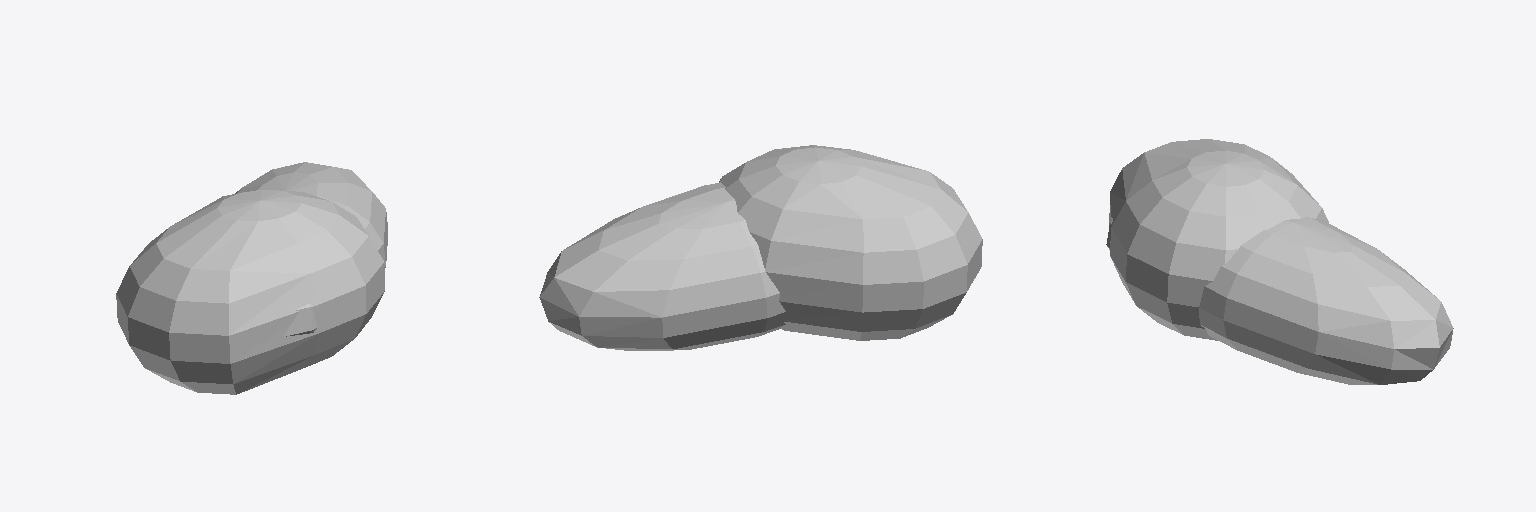
Rendered from uncooked_breast.obj.
The picture shows the model from 3 angles: view 1: azimuth 30°, elevation 25°; view 2: azimuth 150°, elevation 25°; view 3: azimuth 270°, elevation 25°; orthographic projection.
Visible parts, largest first — view 1: group[number redacted]; view 2: group[number redacted]; view 3: group[number redacted].
Boxes of the visible parts, x1=… form: group[number redacted]: x1=116, y1=162, x2=387, y2=394; group[number redacted]: x1=539, y1=145, x2=982, y2=350; group[number redacted]: x1=1106, y1=139, x2=1453, y2=384.
Bounding box in the file's own units: 0.7214 × 0.3399 × 0.6614.